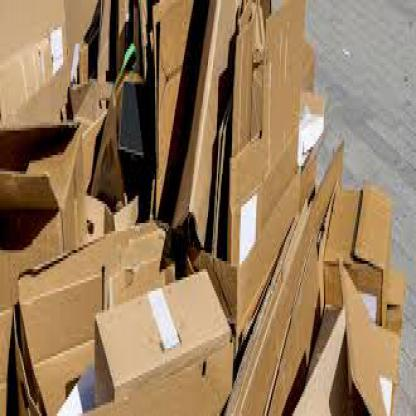CARDBOARD: (11, 256, 232, 413), (223, 136, 343, 413), (0, 193, 139, 413), (183, 125, 315, 356), (16, 215, 164, 413), (92, 264, 228, 397), (169, 0, 239, 245), (0, 117, 82, 302), (151, 0, 208, 220), (304, 299, 400, 413), (0, 0, 83, 123), (323, 182, 392, 324), (89, 41, 145, 204), (262, 0, 303, 218), (336, 256, 384, 413), (290, 304, 358, 414), (251, 41, 314, 138), (31, 335, 94, 414), (227, 128, 263, 264), (208, 87, 231, 253), (115, 74, 152, 160), (76, 106, 108, 193), (58, 35, 88, 120), (299, 84, 321, 166), (77, 76, 113, 122), (130, 0, 151, 76), (384, 266, 404, 329), (83, 0, 100, 38)
